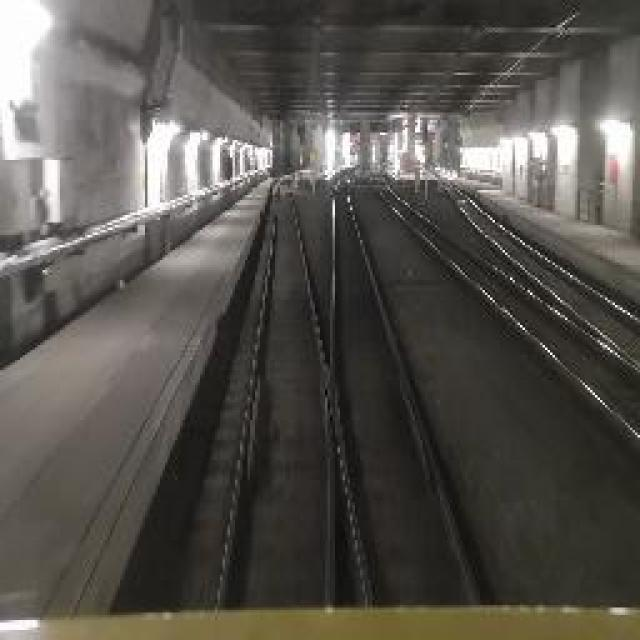rail: (189, 177, 514, 619)
